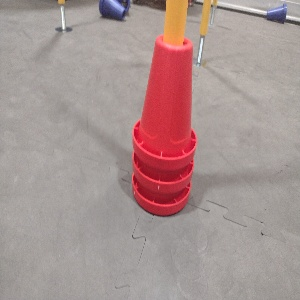Red_3: (118, 30, 202, 219)
